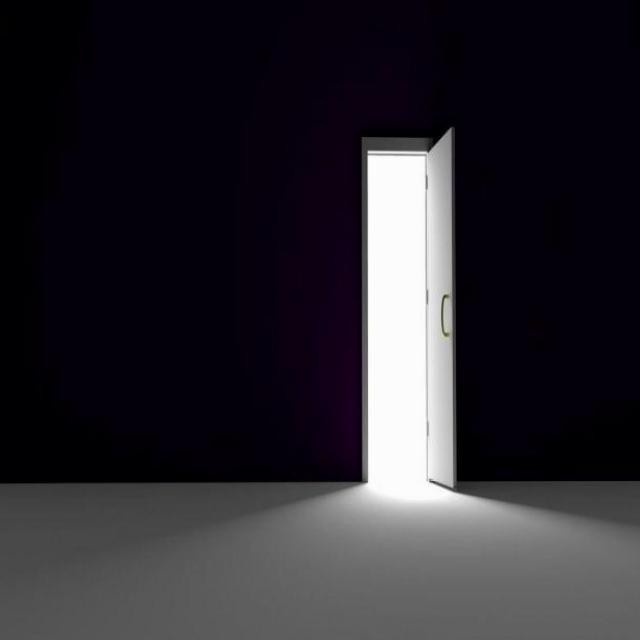door: (425, 126, 456, 488)
